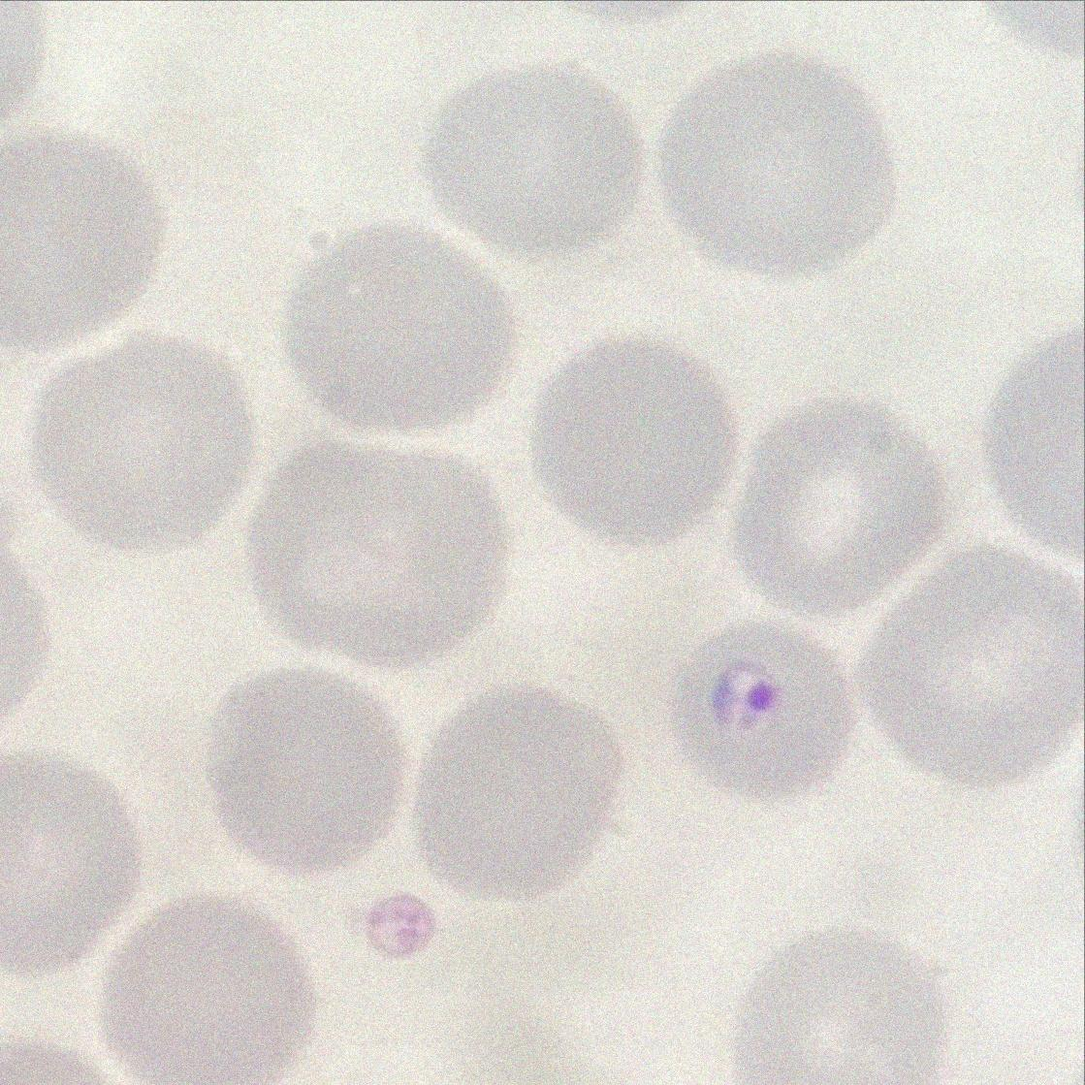Infected: (676, 628, 862, 803)
Uninfected: (249, 428, 513, 670), (730, 386, 950, 622), (659, 56, 896, 275), (873, 547, 1085, 782), (281, 224, 517, 430), (42, 340, 256, 558), (417, 686, 627, 905), (427, 59, 649, 262), (524, 331, 733, 545), (0, 121, 177, 351), (207, 670, 403, 877), (103, 900, 304, 1085), (0, 744, 149, 978), (737, 916, 939, 1085)
